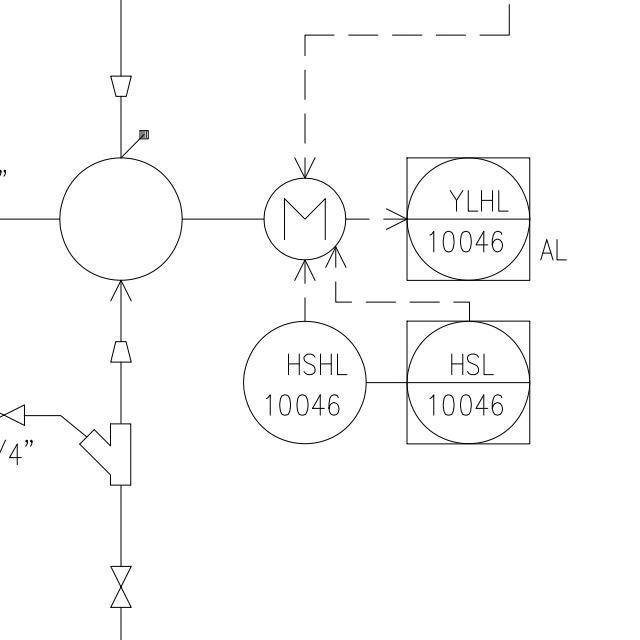GV: (107, 560, 138, 613)
M: (260, 173, 350, 262)
SP: (107, 335, 135, 368), (109, 68, 133, 100)
